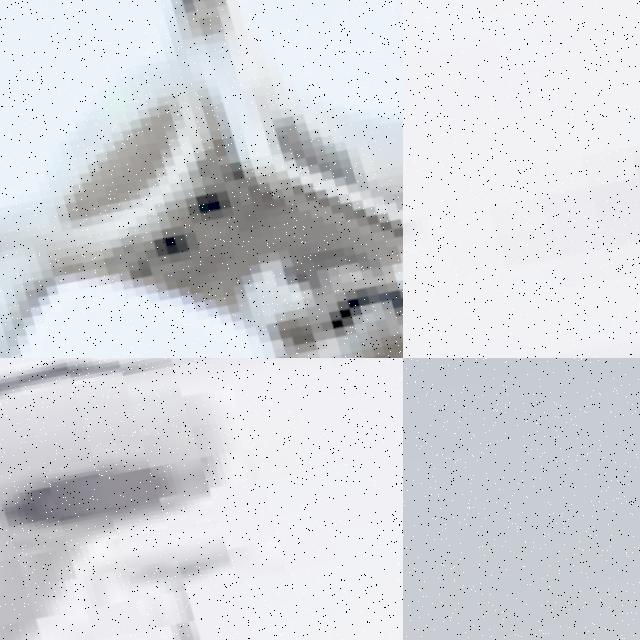0: (0, 358, 403, 640), (403, 0, 640, 358)
drone: (0, 0, 403, 358)
